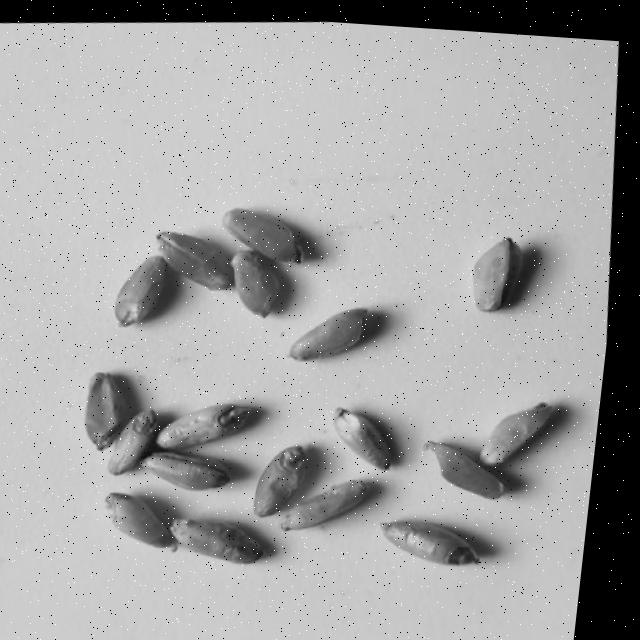wheat_grain: (280, 478, 376, 529), (423, 442, 505, 500), (381, 518, 481, 565), (223, 207, 305, 264), (482, 402, 554, 466), (158, 231, 235, 290), (254, 444, 317, 516), (291, 307, 378, 359), (113, 255, 171, 326), (172, 518, 264, 562), (105, 492, 175, 549), (232, 250, 288, 317), (86, 372, 136, 447), (334, 407, 393, 470), (143, 451, 230, 490), (106, 410, 158, 475), (471, 238, 515, 310), (157, 406, 223, 449), (221, 405, 263, 432)
